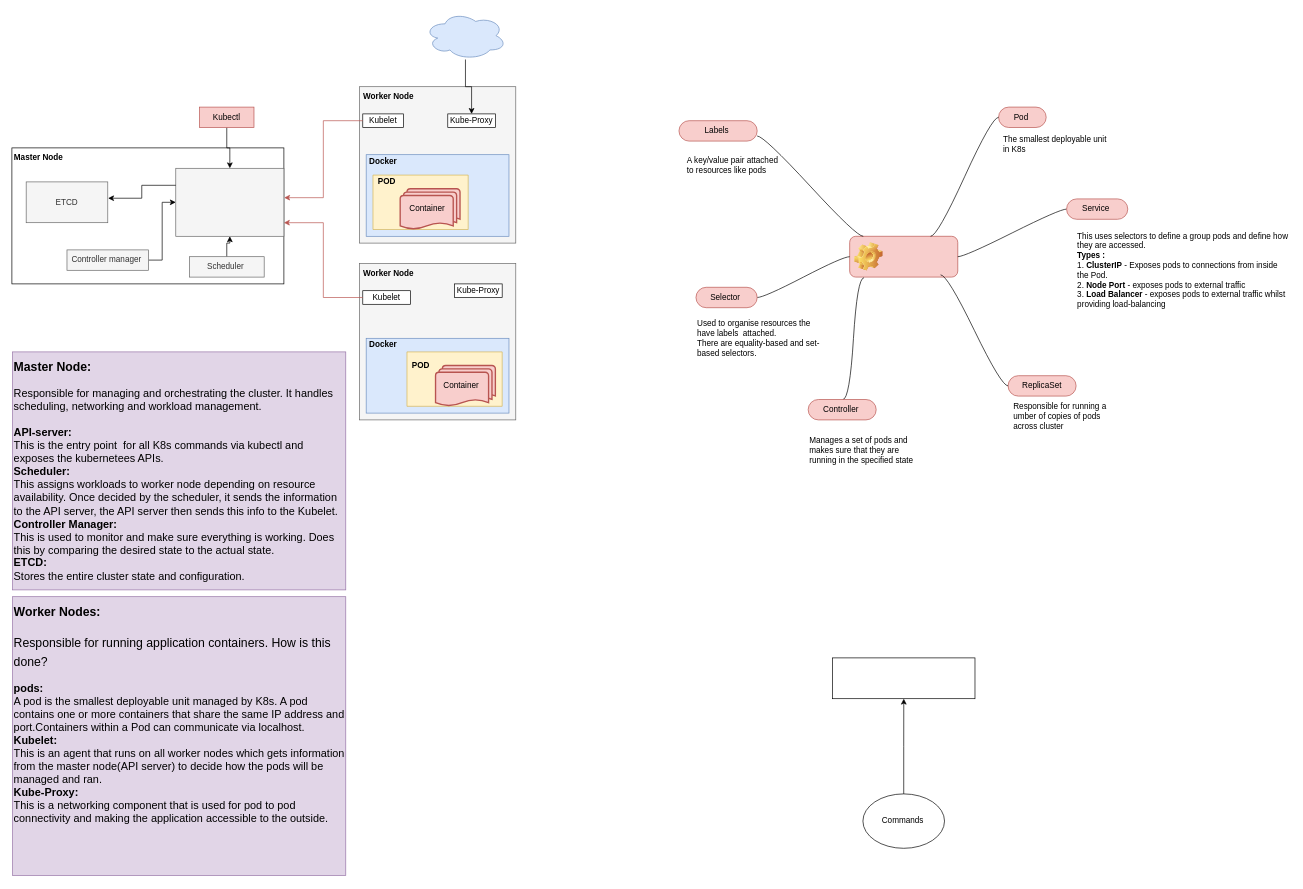
This 1303x889 diagram has some shape labels left out. The centre of each missing label's shape, as x and y in pixels:
"APi Server" belongs at point (229, 202).
"Building Blocks" belongs at point (903, 256).
"Internet" belongs at point (465, 35).
"kubectl config current-context shows the current cluster your on" belongs at point (903, 678).
